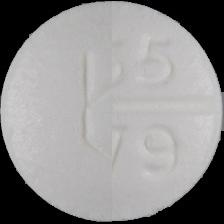55289-160: (0, 0, 224, 224)
